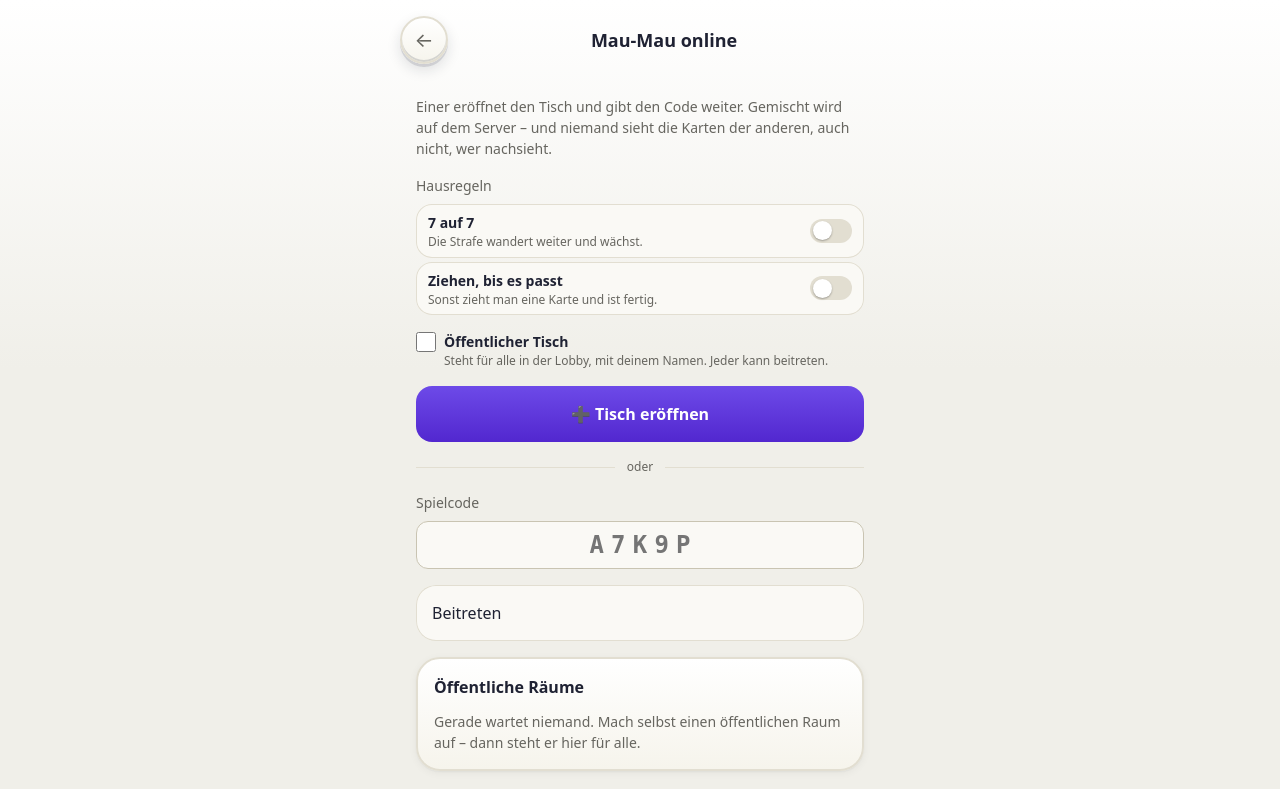
Test: Mau-Mau online › baut die fremde Hand allein aus der Anzahl
The width and height of the screenshot is (1280, 789).
Click the button "➕ Tisch eröffnen" at {"x": 640, "y": 414}, box [416, 386, 864, 442]
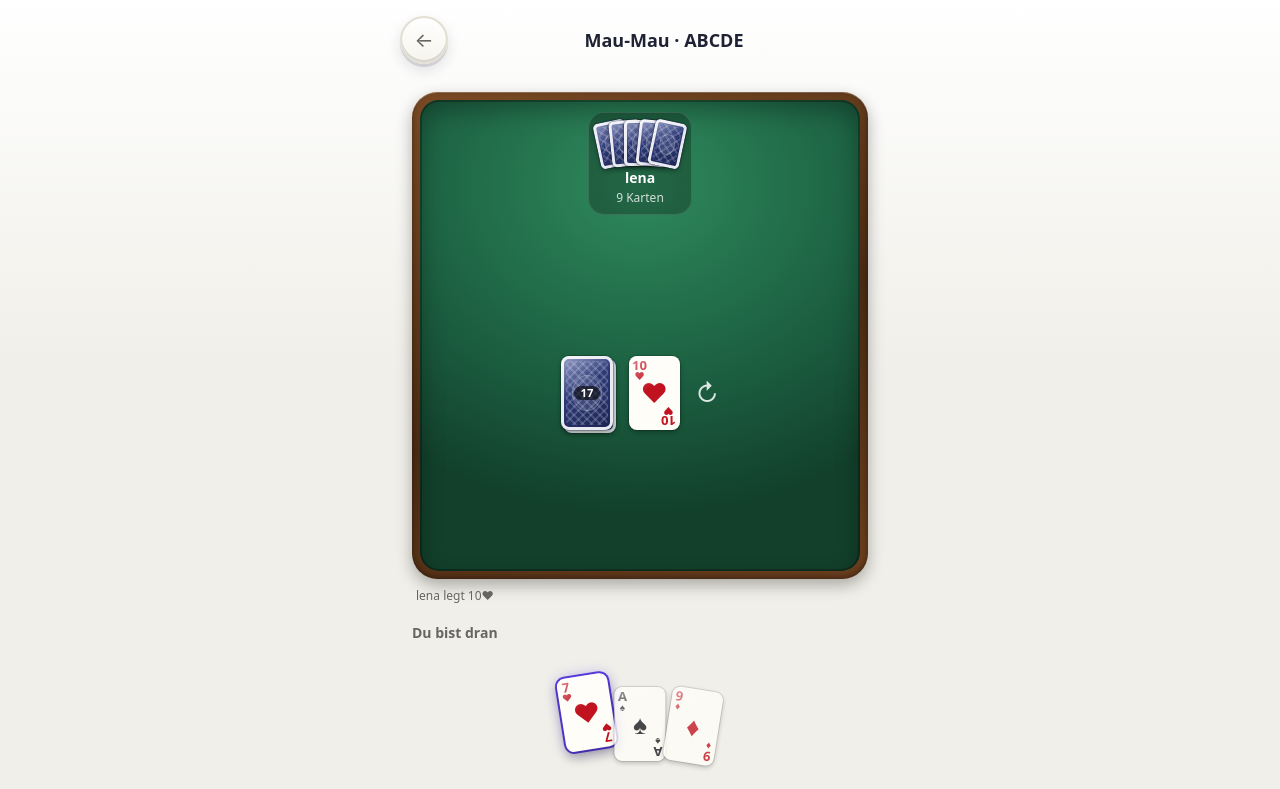
Expected: the element named "Tischmitte" is shown, [561, 356, 719, 433]
Expected: the text "9 Karten" is shown, [616, 189, 664, 207]
